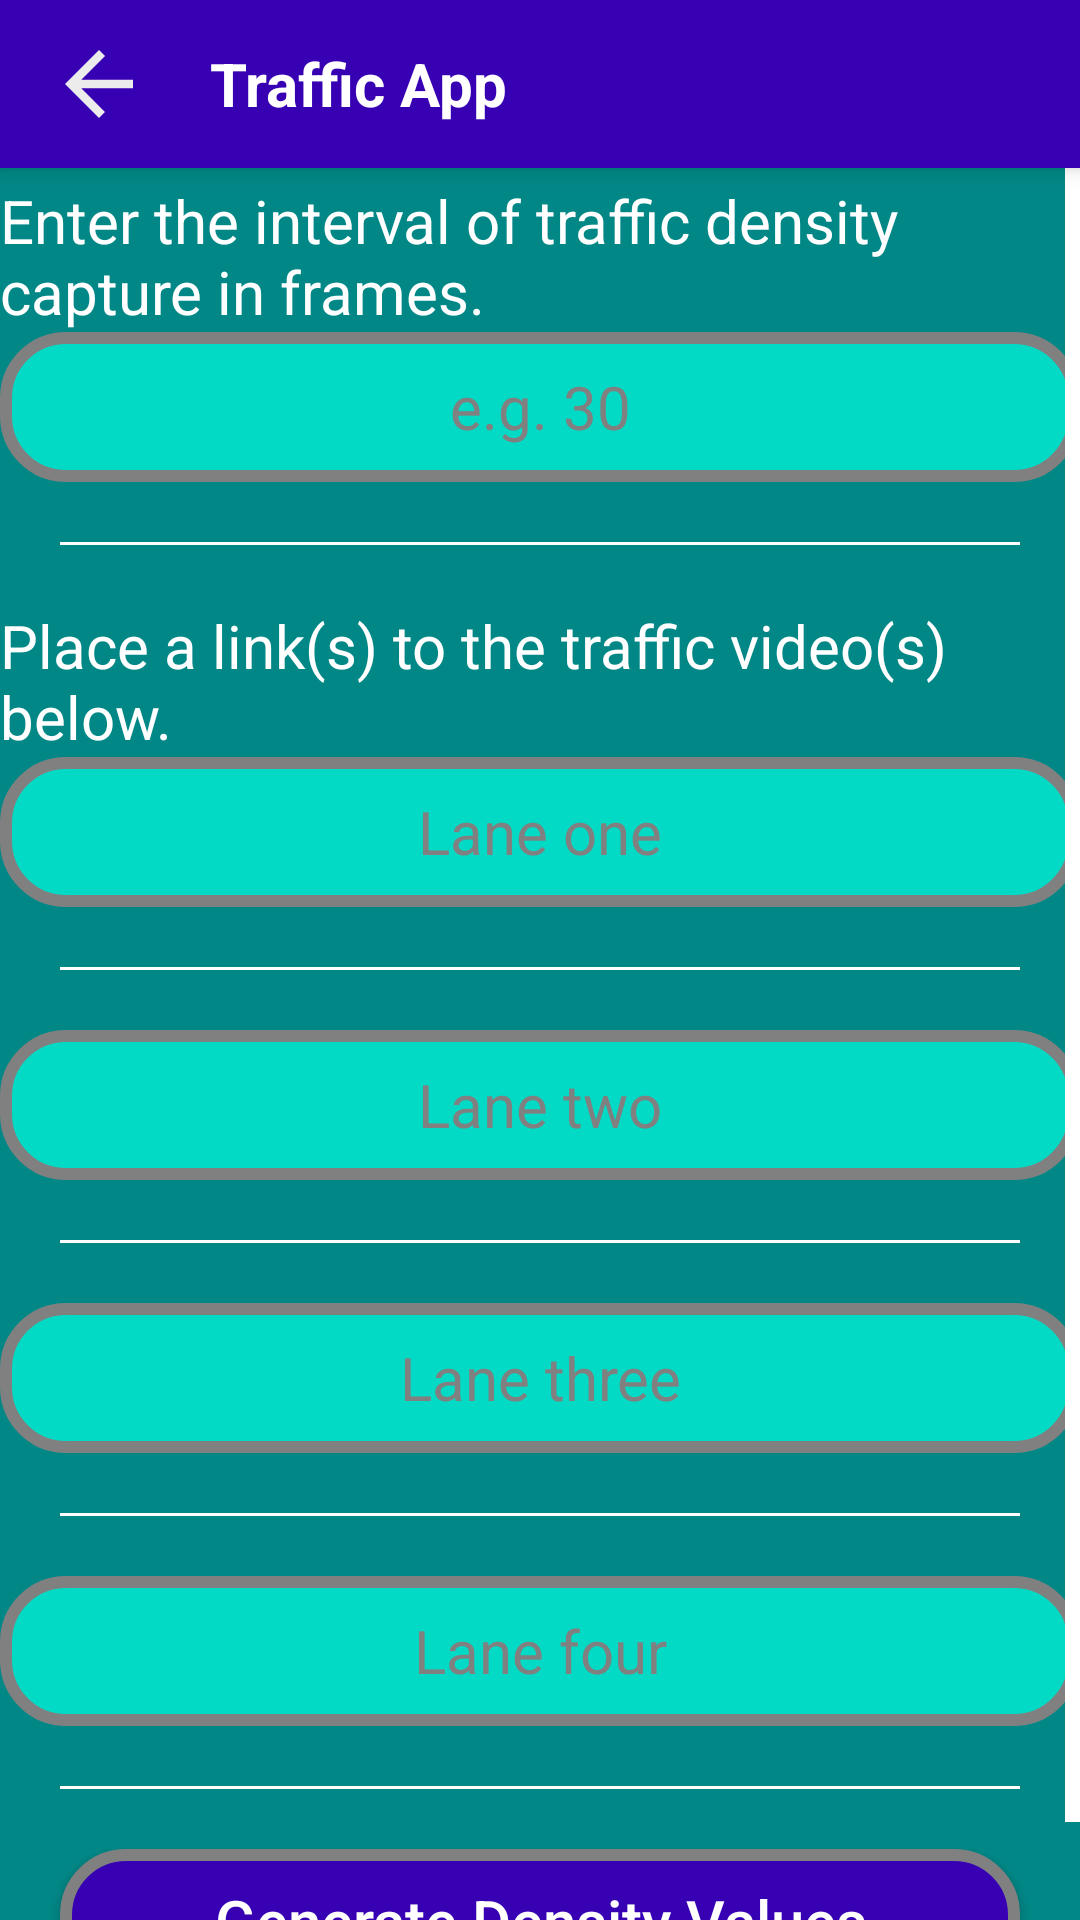

Where icons sit on this 1080×1920 app screen, as [x1=x1, y1=y1, x2=x2, y2=y2]:
arrow back: [x1=65, y1=50, x2=133, y2=118]
